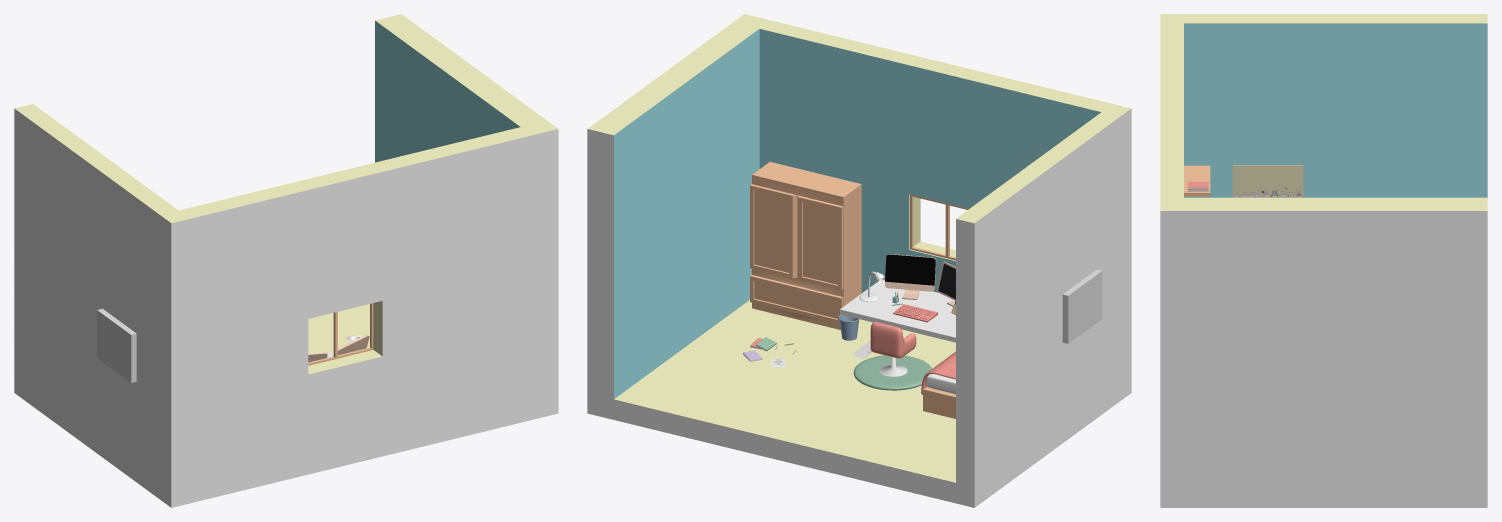
Rendered from Study_Room_46.glb.
The picture shows the model from 3 angles, left to right: view 1: azimuth 30°, elevation 25°; view 2: azimuth 150°, elevation 25°; view 3: azimuth 270°, elevation 25°; orthographic projection. The views are drawn at different scales.
Visible parts, largest first — view 1: Room, Cube, Window Frame; view 2: Room, Closet, Table Top, Cube, Rug, Desktop Screen, Chair, Bedframe, Window Frame; view 3: Room, Cube.001, Shelf.001.
Part boxes in pixels (x1=…): Room: x1=14, y1=14, x2=558, y2=507; Cube: x1=97, y1=308, x2=136, y2=382; Window Frame: x1=308, y1=303, x2=373, y2=365; Room: x1=587, y1=14, x2=1131, y2=507; Closet: x1=750, y1=162, x2=861, y2=329; Table Top: x1=840, y1=279, x2=955, y2=342; Cube: x1=1062, y1=269, x2=1102, y2=343; Rug: x1=853, y1=355, x2=931, y2=390; Desktop Screen: x1=885, y1=254, x2=935, y2=285; Chair: x1=870, y1=322, x2=916, y2=358; Bedframe: x1=923, y1=386, x2=955, y2=418; Window Frame: x1=910, y1=194, x2=968, y2=260; Room: x1=1160, y1=14, x2=1487, y2=507; Cube.001: x1=1232, y1=165, x2=1303, y2=197; Shelf.001: x1=1184, y1=165, x2=1210, y2=196.
Bounding box in the file's own units: 28.12 × 19.48 × 19.48.
30 materials, 5 textured.
